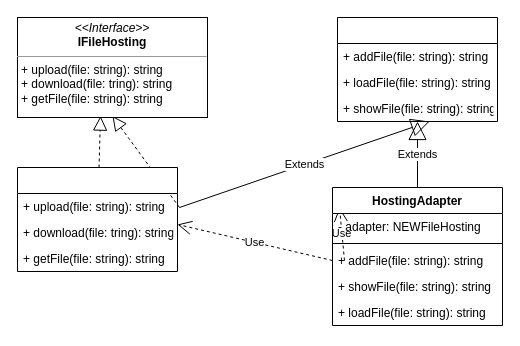
Image size: 520x346. Some labels were removed from this diagram. Here are the shapes that lost their labels. From the top down, the box of each, then its label:
(336, 16, 498, 122): NEWFileHosting
(16, 166, 178, 272): FileHosting
